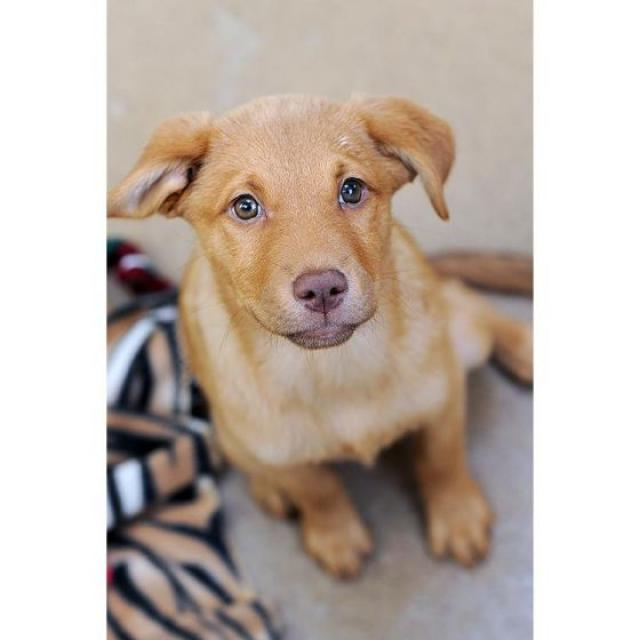labrador_retriever_dog: (108, 80, 474, 374)
